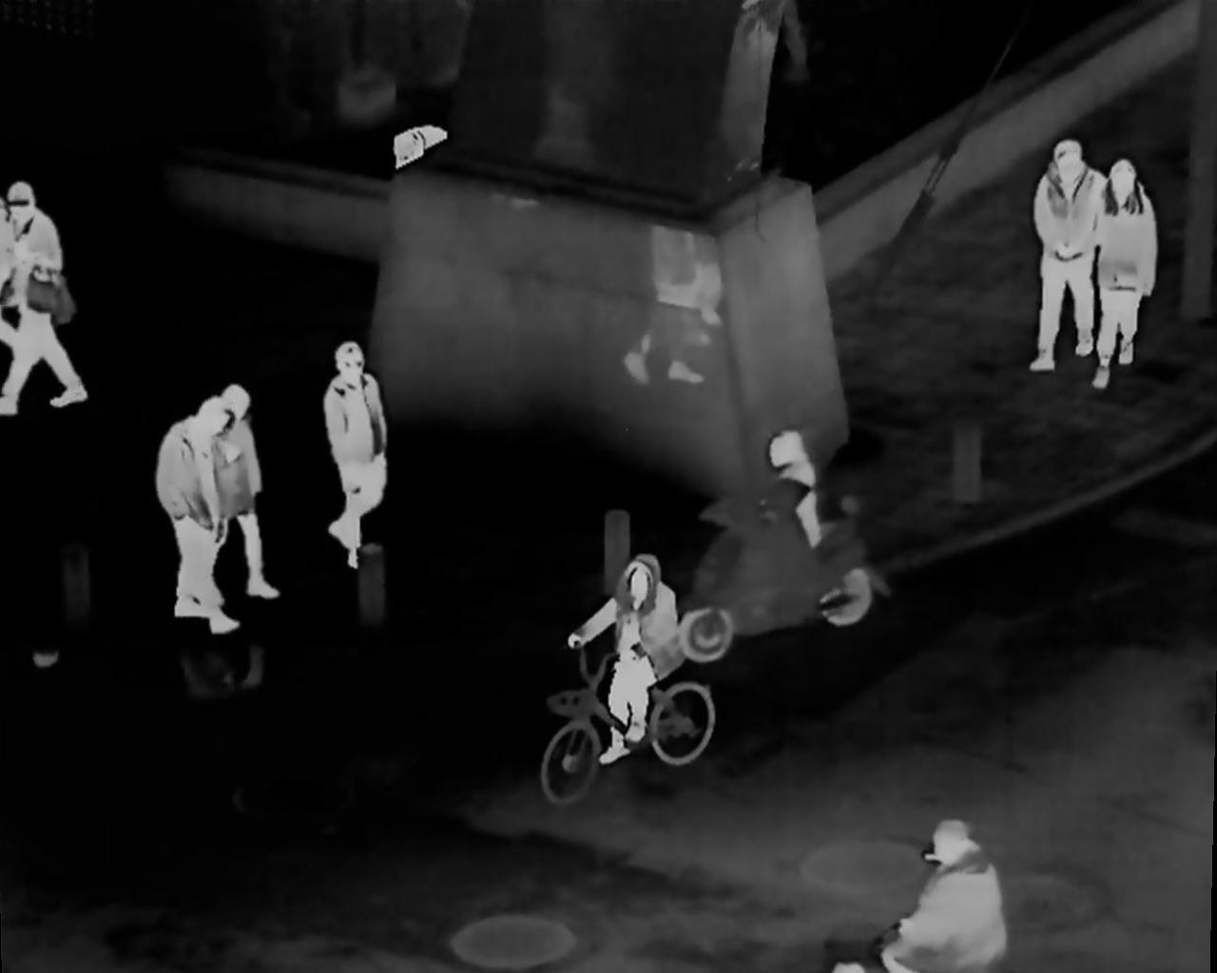person: (1014, 142, 1104, 380), (3, 183, 92, 402), (883, 819, 1008, 973), (214, 376, 289, 615), (155, 391, 228, 633), (584, 566, 673, 753), (758, 419, 845, 602), (1095, 156, 1159, 386), (314, 345, 377, 571)
